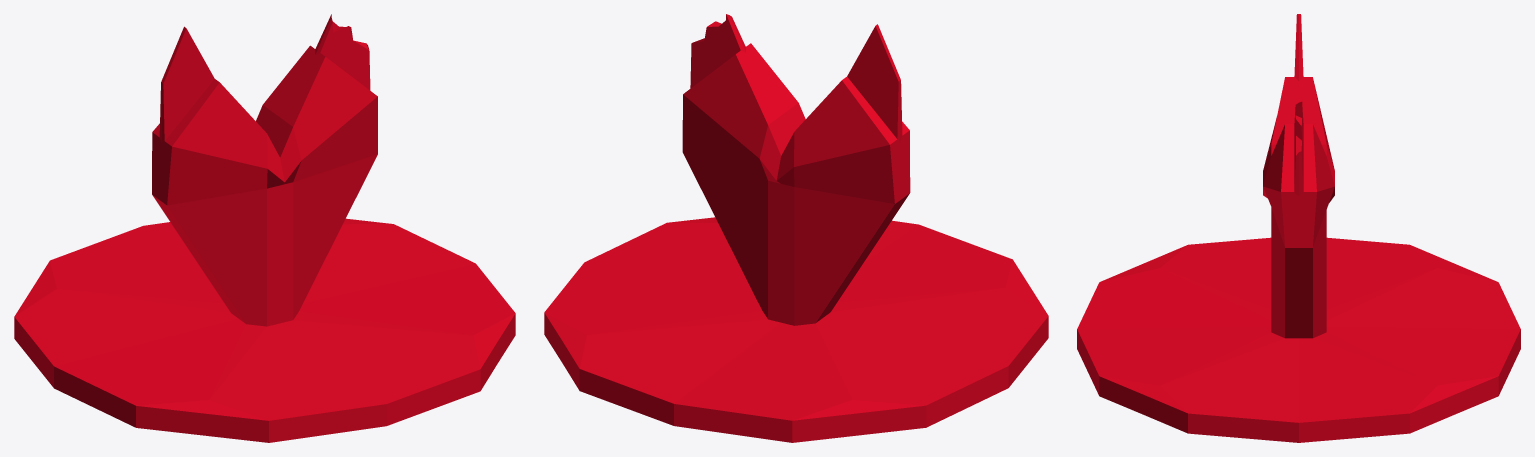
Rendered from silverthorn_hood_statue.fbx.
3 renders of one model, left to right at view 1: azimuth 30°, elevation 25°; view 2: azimuth 150°, elevation 25°; view 3: azimuth 270°, elevation 25°, orthographic. The views are drawn at different scales.
Parts seen in each view (by area): view 1: Cube; view 2: Cube; view 3: Cube.
Part boxes in pixels (x1,y1,x2,y2): Cube: (14,14,515,442); Cube: (544,14,1048,442); Cube: (1077,14,1520,442).
Bounding box in the file's own units: 32 × 24.06 × 32.
